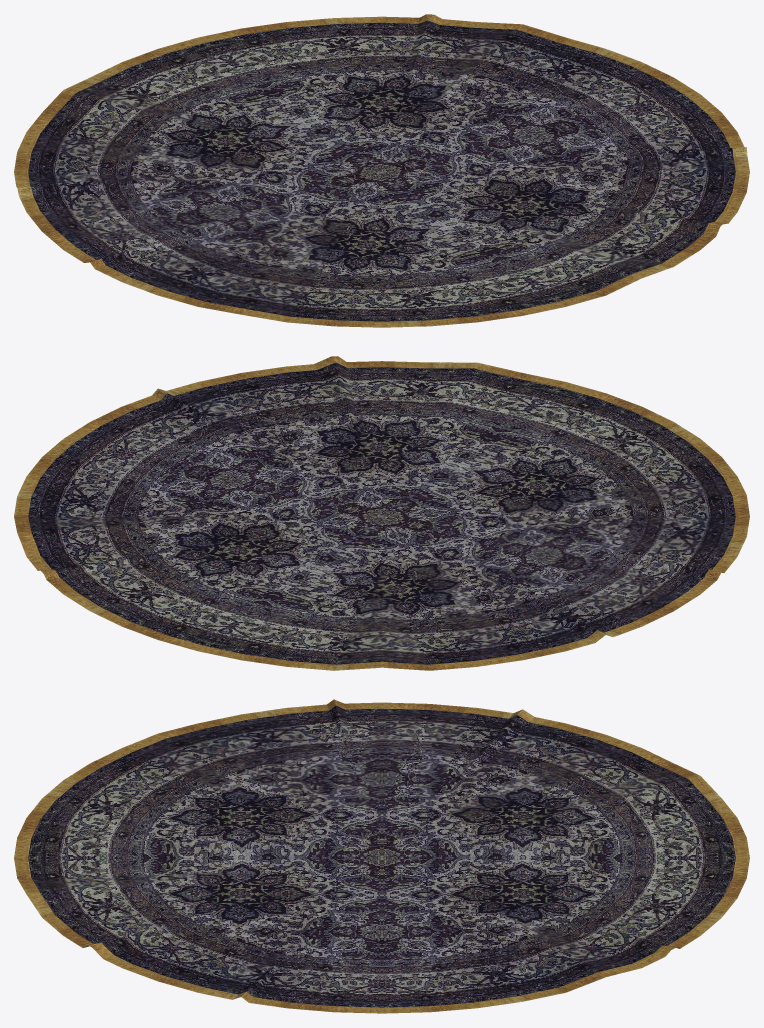
Rendered from KnightCastle_LibraryRug.FBX.
3 renders of one model, top to bottom at view 1: azimuth 30°, elevation 25°; view 2: azimuth 150°, elevation 25°; view 3: azimuth 270°, elevation 25°, orthographic.
Visible parts, largest first — view 1: SM_KnightCastle_LibraryRug; view 2: SM_KnightCastle_LibraryRug; view 3: SM_KnightCastle_LibraryRug.
Part boxes in pixels (box(x1,y1,x2,y2)): SM_KnightCastle_LibraryRug: box(14, 14, 749, 327); SM_KnightCastle_LibraryRug: box(14, 356, 749, 670); SM_KnightCastle_LibraryRug: box(14, 699, 749, 1013).
Size of what is drawn, in the model's own units: 1037 by 1037 by 9.63.
